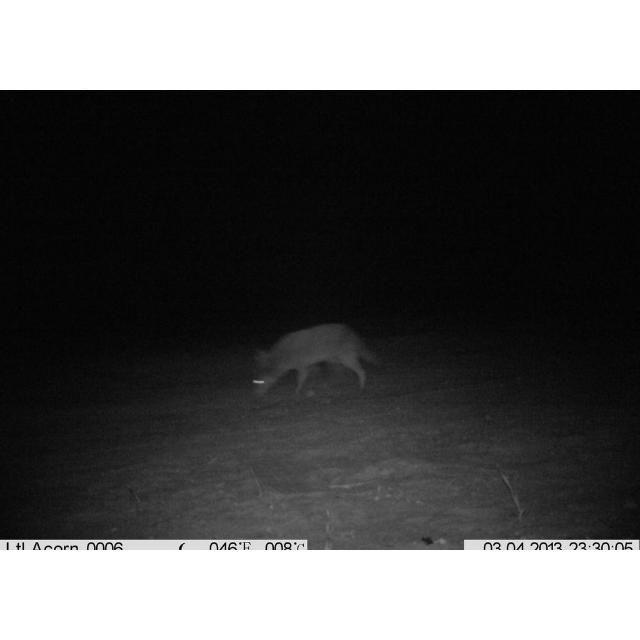animals: (249, 318, 381, 409)
